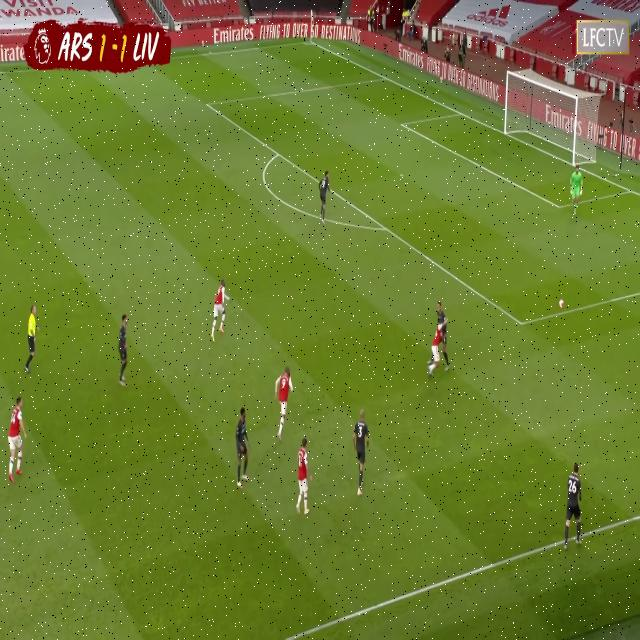Ball: (558, 299, 563, 309)
GoalKeeper: (568, 166, 584, 217)
TEAM 1: (565, 464, 585, 553), (8, 398, 28, 482), (275, 364, 293, 439), (213, 279, 230, 343), (296, 438, 310, 515), (428, 318, 444, 378), (316, 170, 328, 224)
TEAM 2: (354, 412, 372, 493), (235, 408, 252, 489), (118, 314, 131, 386), (438, 296, 450, 374)
